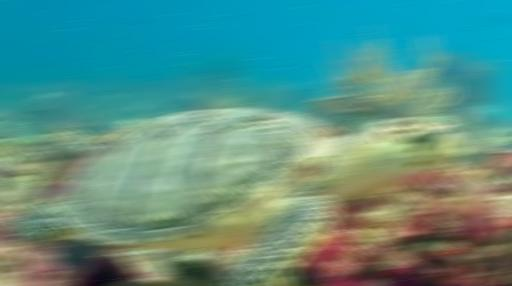Fish: (10, 108, 465, 285)
